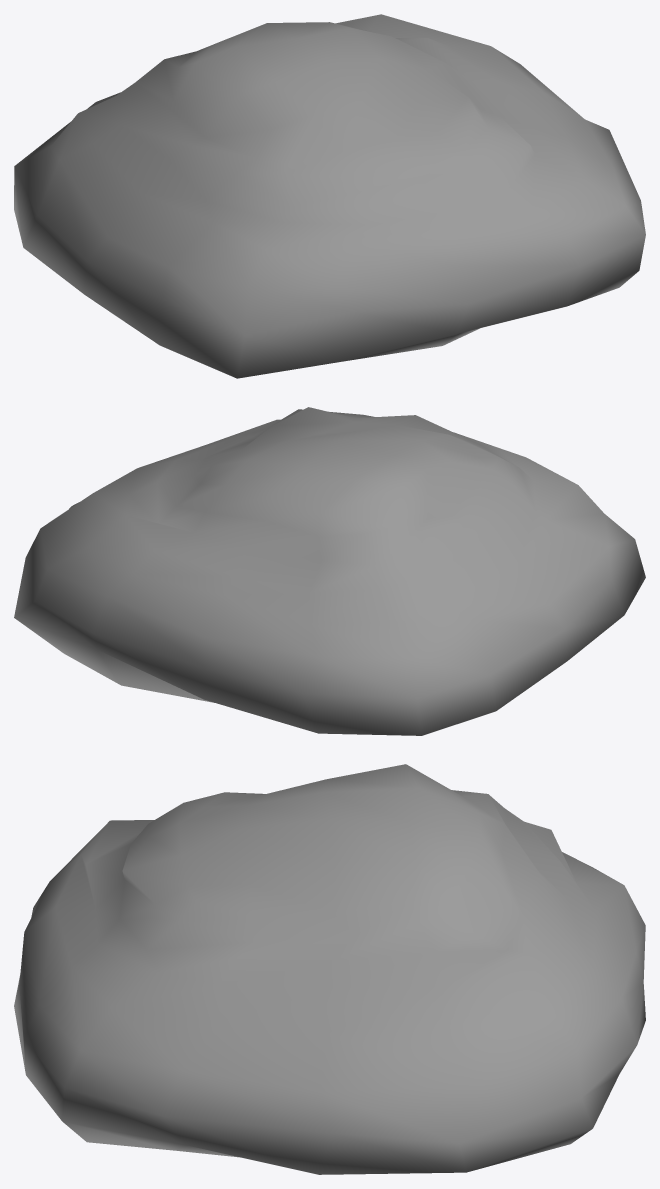
The model's file is Stone_03.fbx.
3 renders of one model, top to bottom at view 1: azimuth 30°, elevation 25°; view 2: azimuth 150°, elevation 25°; view 3: azimuth 270°, elevation 25°, orthographic. The views are drawn at different scales.
Visible parts, largest first — view 1: Stone_03; view 2: Stone_03; view 3: Stone_03.
Part boxes in pixels (x1,y1,x2,y2): Stone_03: (14, 14, 645, 378); Stone_03: (14, 407, 645, 735); Stone_03: (14, 764, 645, 1174).
Bounding box in the file's own units: 103 × 39.33 × 93.42.
